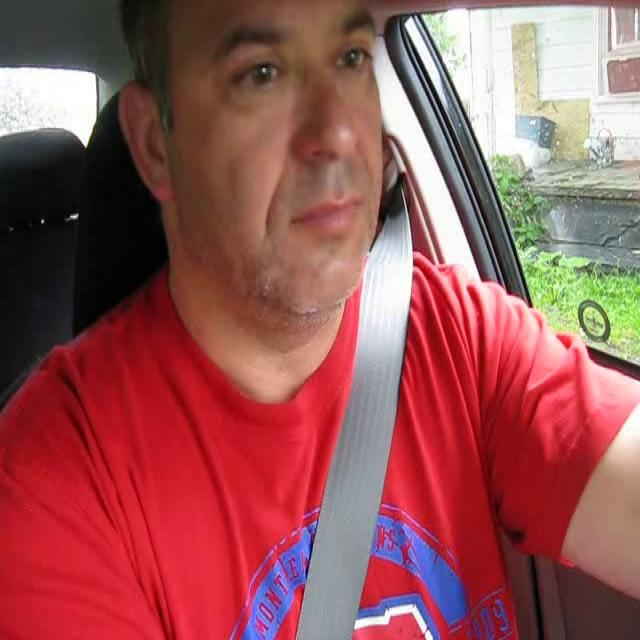close: (284, 190, 366, 240)
